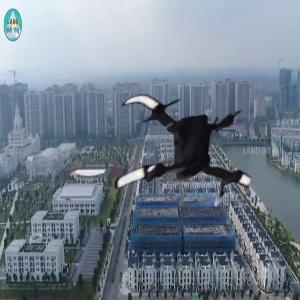drone: (106, 68, 275, 237)
